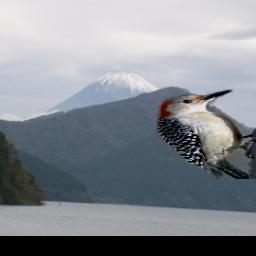Woodpecker: (156, 89, 256, 179)
